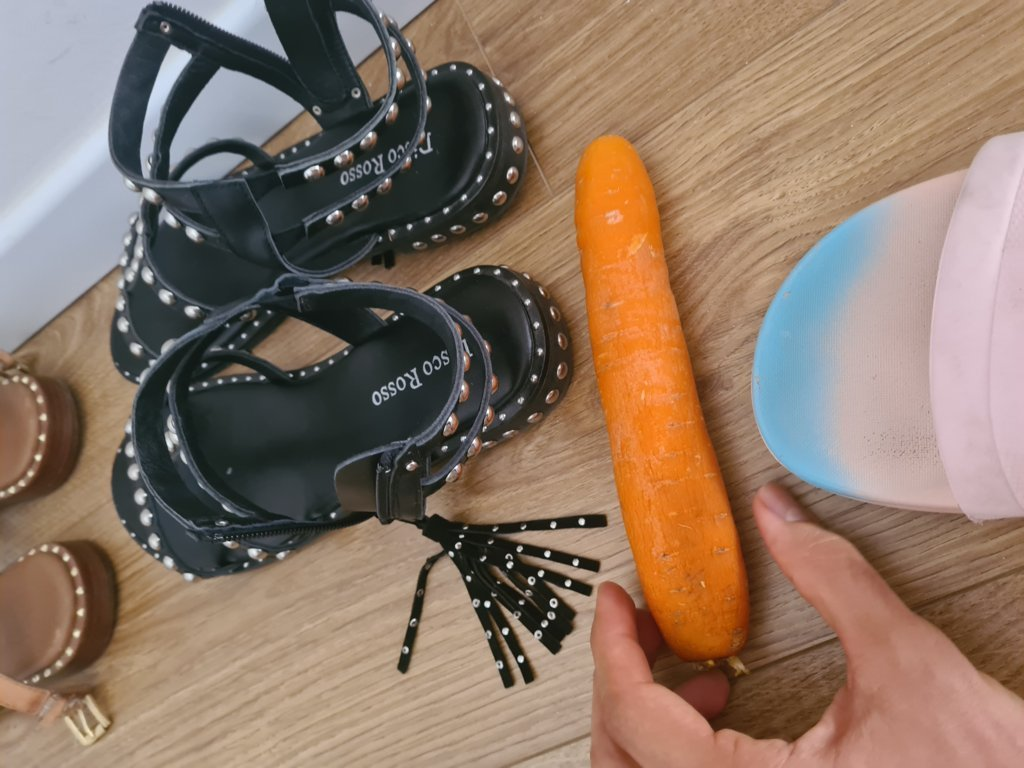carrot: (570, 129, 748, 659)
